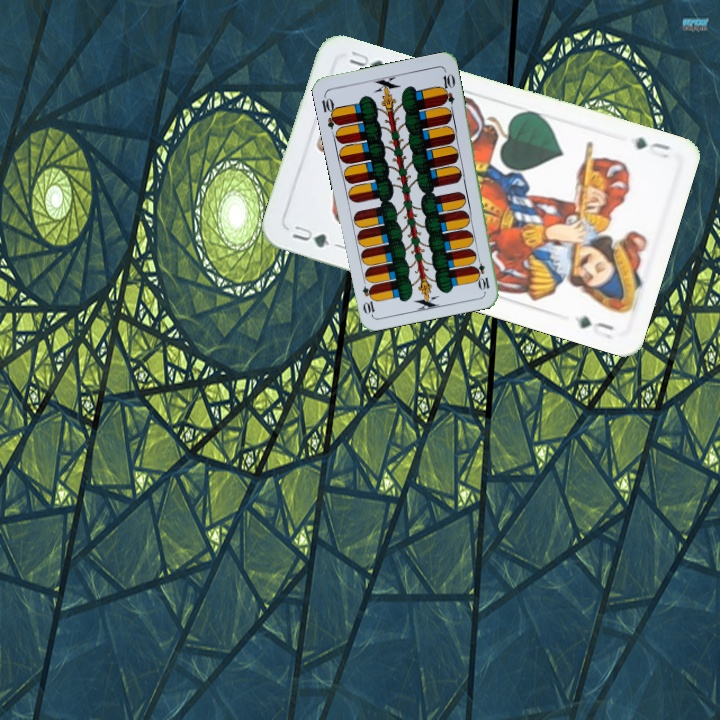E10: (318, 91, 342, 131), (472, 252, 492, 293)
GU: (288, 220, 333, 251), (630, 133, 674, 161)
